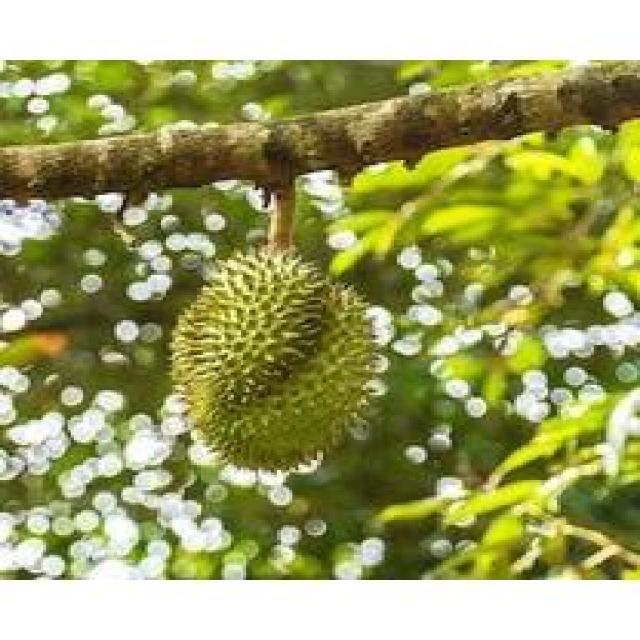fruit: (148, 220, 403, 492)
